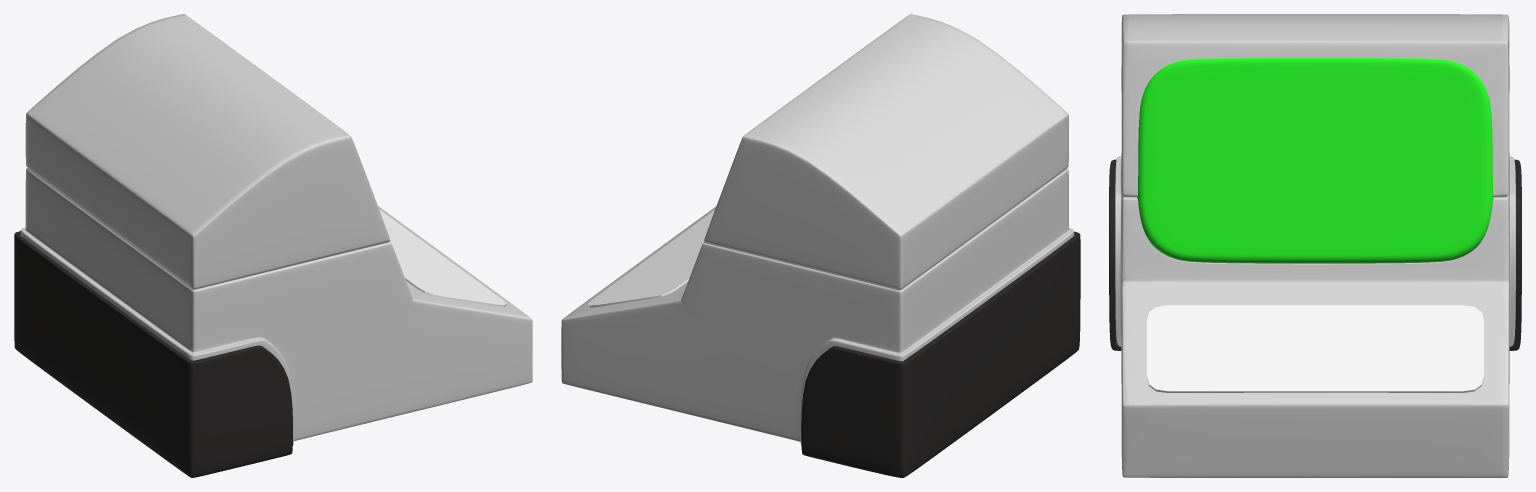
The model's file is Institute_WallComputer_Final.FBX.
3 views of the same model, side by side, from view 1: azimuth 30°, elevation 25°; view 2: azimuth 150°, elevation 25°; view 3: azimuth 270°, elevation 25° (orthographic). The views are drawn at different scales.
Visible parts, largest first — view 1: WallComputer; view 2: WallComputer; view 3: WallComputer.
Part boxes in pixels (x1,y1,x2,y2): WallComputer: (14,14,532,477); WallComputer: (561,14,1080,477); WallComputer: (1109,14,1521,477).
Bounding box in the file's own units: 101 × 83.68 × 90.06.
